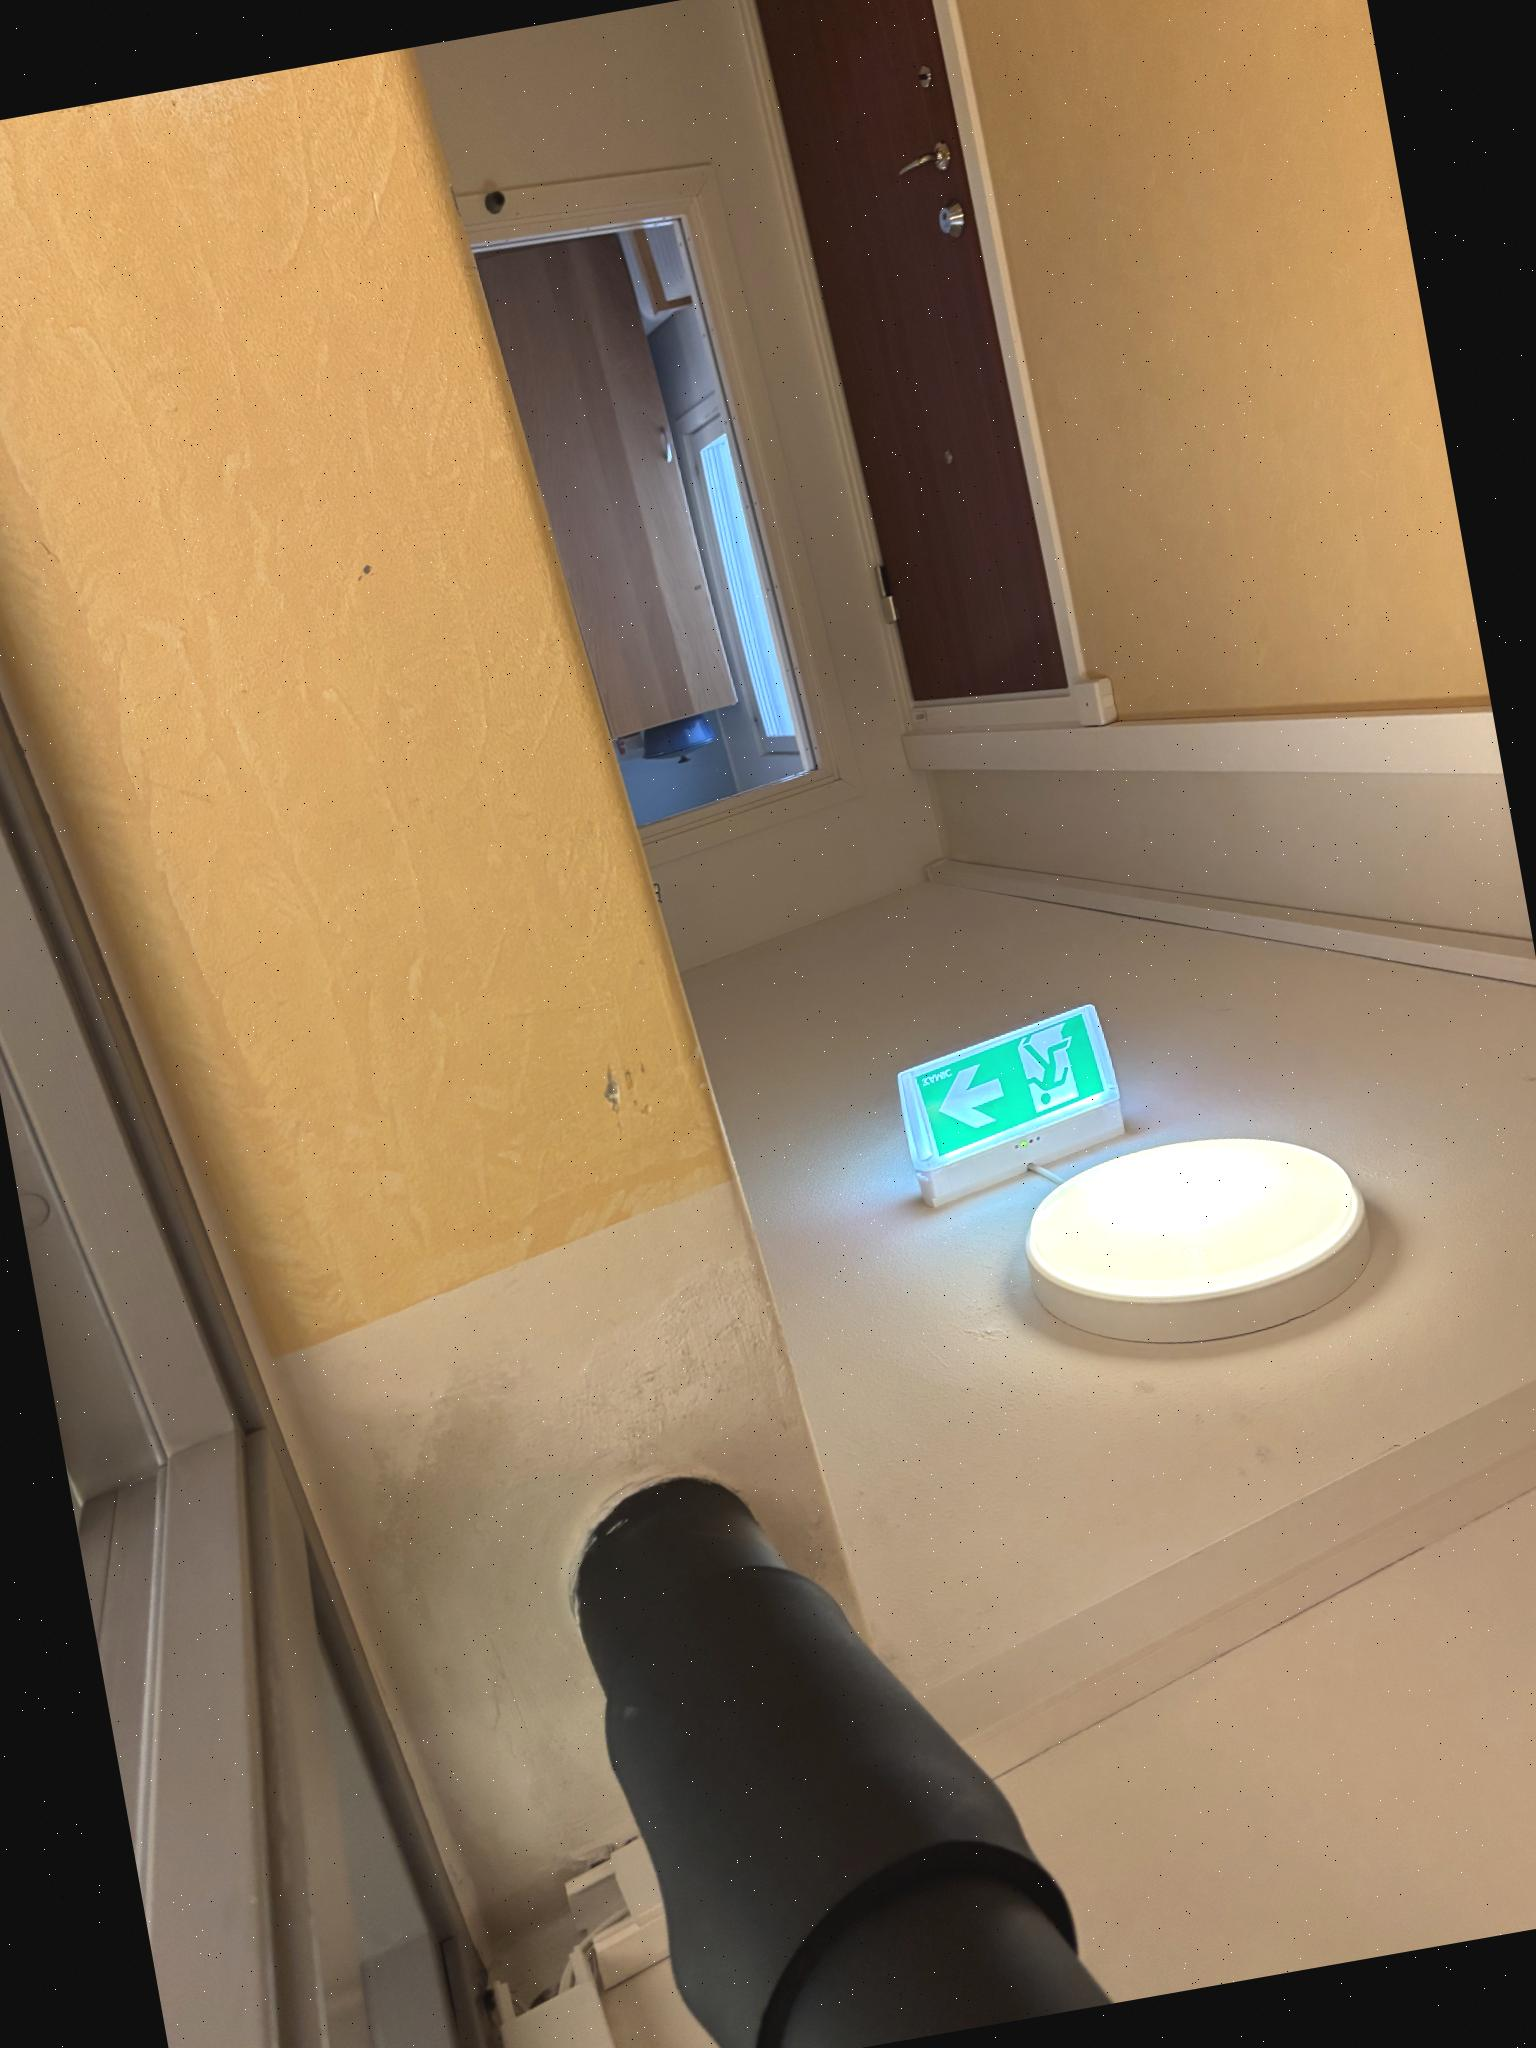exit_sign: (886, 992, 1128, 1176)
